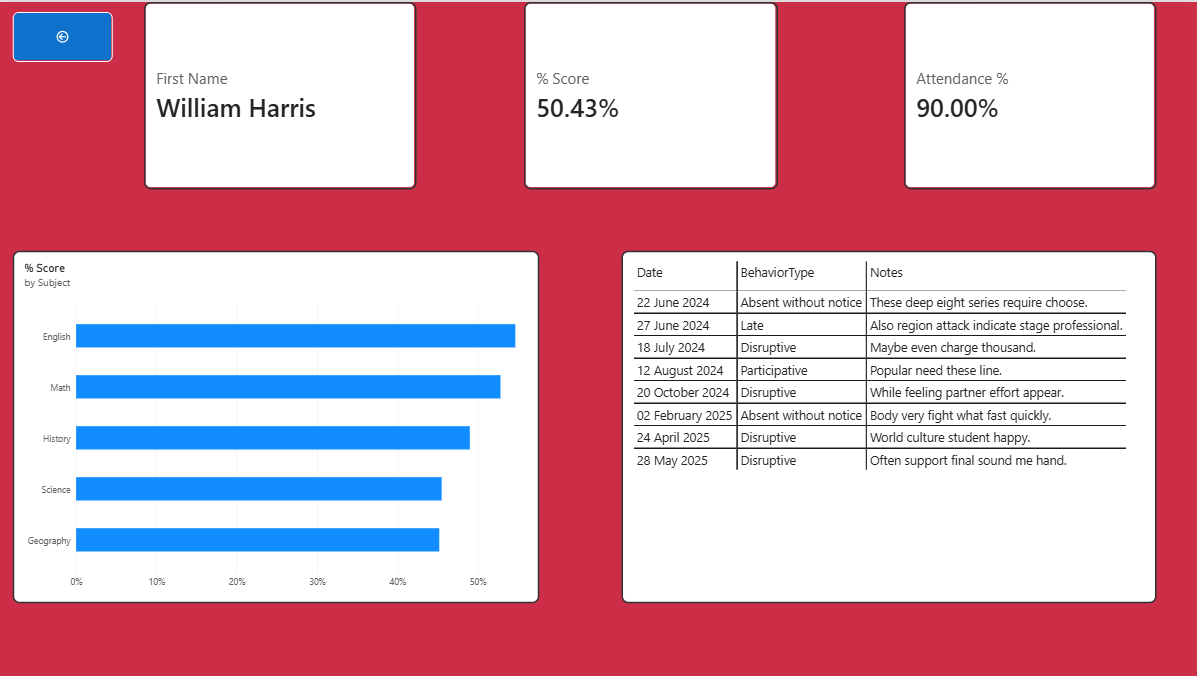

The dashboard page shown, as its layout file describes it:
{"tool":"powerbi","page":{"name":"Student Profile","canvas":[1920,1080],"ordinal":1},"visuals":[{"type":"actionButton","box":[22,16,160,80],"z":0},{"type":"cardVisual","fields":{"Data":["Min(Students csv.Name)"]},"box":[232,0,436,300],"z":1},{"type":"cardVisual","fields":{"Data":["Scores csv.% Score"]},"box":[840,0,406,300],"z":2},{"type":"cardVisual","fields":{"Data":["Attendance csv.Attendance %"]},"box":[1448,0,404,300],"z":3},{"type":"clusteredBarChart","fields":{"Category":["Scores csv.Subject"],"Y":["Scores csv.% Score"]},"box":[22,398,842,564],"z":4},{"type":"tableEx","fields":{"Values":["Behavior csv.Date","Behavior csv.BehaviorType","Behavior csv.Notes"]},"box":[996,398,856,564],"z":5}]}

Visuals, with their boxes in screenshot pixels (x1, y1, x2, y2), scaled from the page's 1920x1080 canvas onto the 1197x676 screenshot:
actionButton: (left=14, top=10, right=113, bottom=60)
cardVisual - Min(Students csv.Name): (left=145, top=0, right=416, bottom=188)
cardVisual - Scores csv.% Score: (left=524, top=0, right=777, bottom=188)
cardVisual - Attendance csv.Attendance %: (left=903, top=0, right=1155, bottom=188)
clusteredBarChart - Scores csv.Subject x Scores csv.% Score: (left=14, top=249, right=539, bottom=602)
tableEx - Behavior csv.Date x Behavior csv.BehaviorType: (left=621, top=249, right=1155, bottom=602)
